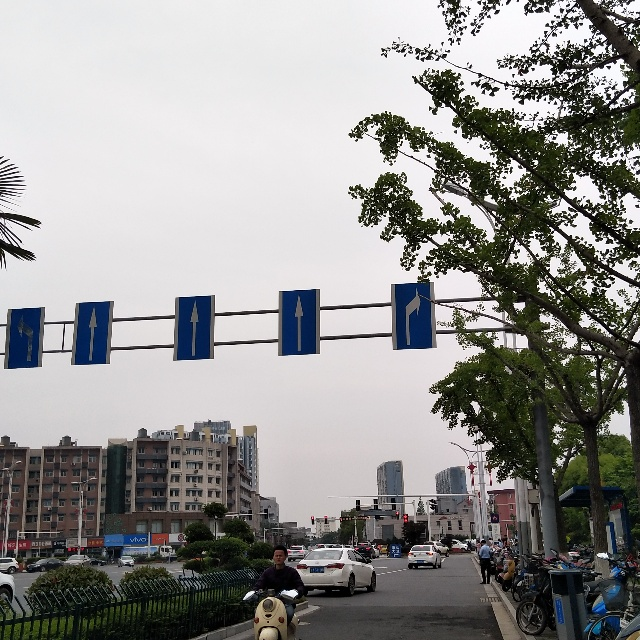left: (8, 307, 46, 369)
right: (391, 282, 437, 350)
straight: (173, 294, 215, 362), (70, 300, 113, 366), (278, 290, 320, 356)
